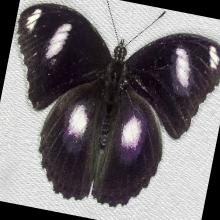butterfly: (16, 3, 220, 206)
